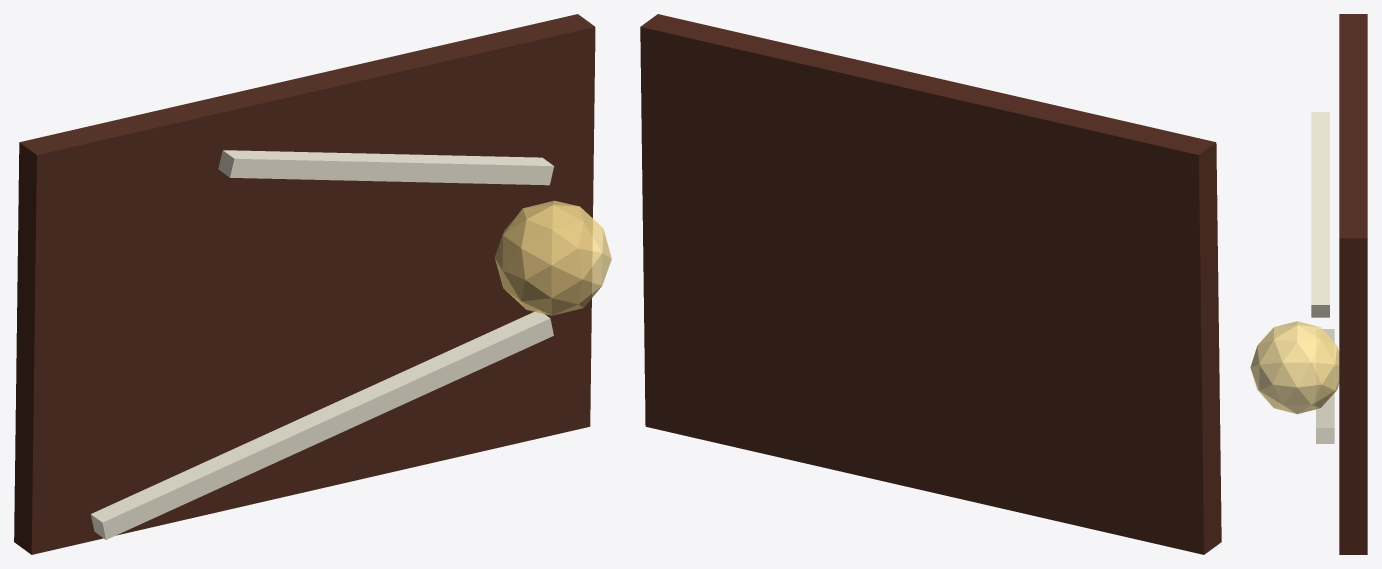
Rendered from 02_world_prop_polish.glb.
The picture shows the model from 3 angles, left to right: view 1: azimuth 30°, elevation 25°; view 2: azimuth 150°, elevation 25°; view 3: azimuth 270°, elevation 25°; orthographic projection. The views are drawn at different scales.
Visible parts, largest first — view 1: object_overlay_plate, edge_wear_a, glow_socket, edge_wear_b; view 2: object_overlay_plate; view 3: object_overlay_plate, glow_socket, edge_wear_b, edge_wear_a.
Part boxes in pixels (left/top/right/bottom): object_overlay_plate: left=14, top=14, right=595, bottom=554; edge_wear_a: left=91, top=310, right=553, bottom=539; glow_socket: left=494, top=200, right=611, bottom=315; edge_wear_b: left=218, top=150, right=554, bottom=185; object_overlay_plate: left=640, top=14, right=1221, bottom=554; object_overlay_plate: left=1339, top=14, right=1367, bottom=554; glow_socket: left=1250, top=321, right=1339, bottom=414; edge_wear_b: left=1311, top=112, right=1329, bottom=317; edge_wear_a: left=1316, top=329, right=1334, bottom=443.
Size of the model in its own units: 1.11 by 0.765 by 0.25.
